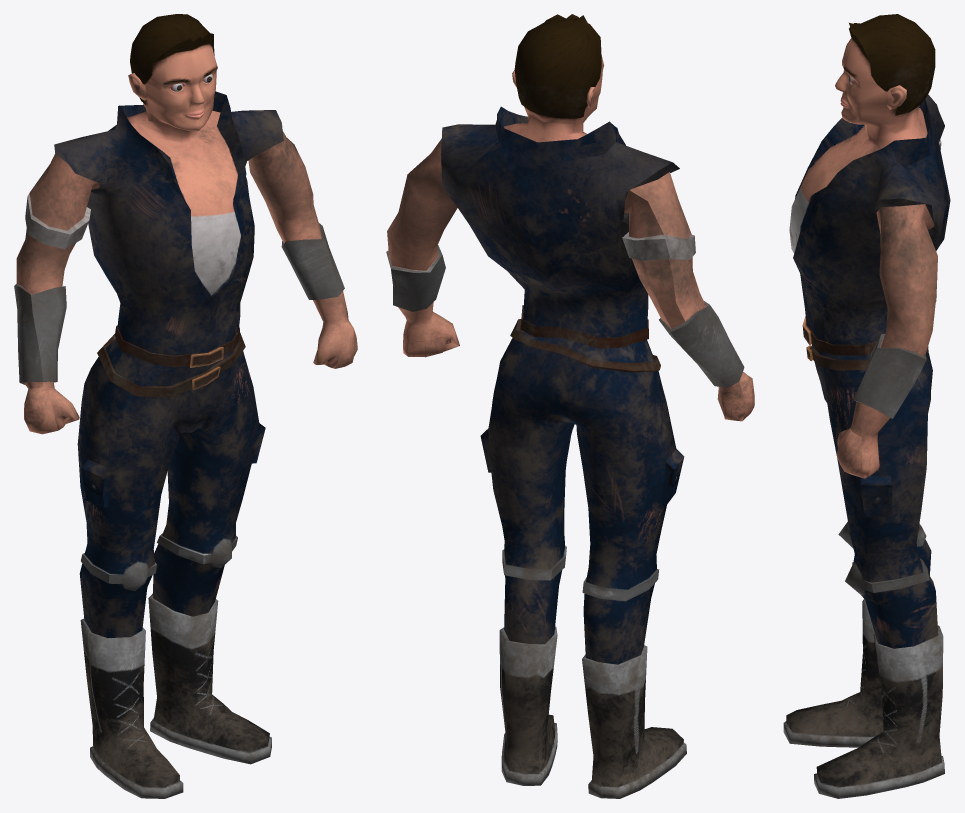
File: Anim_interruptor_jugador.0040.obj
3 renders of one model, left to right at view 1: azimuth 30°, elevation 25°; view 2: azimuth 150°, elevation 25°; view 3: azimuth 270°, elevation 25°, orthographic. The views are drawn at different scales.
Parts seen in each view (by area): view 1: polySurface1; view 2: polySurface1; view 3: polySurface1.
Boxes of the visible parts, bbox=[...] form: polySurface1: bbox=[14, 14, 357, 798]; polySurface1: bbox=[386, 14, 754, 798]; polySurface1: bbox=[783, 14, 950, 798].
Bounding box in the file's own units: 4.62 × 9.64 × 1.95.
